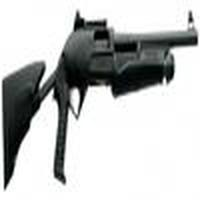gun: (2, 28, 199, 143)
